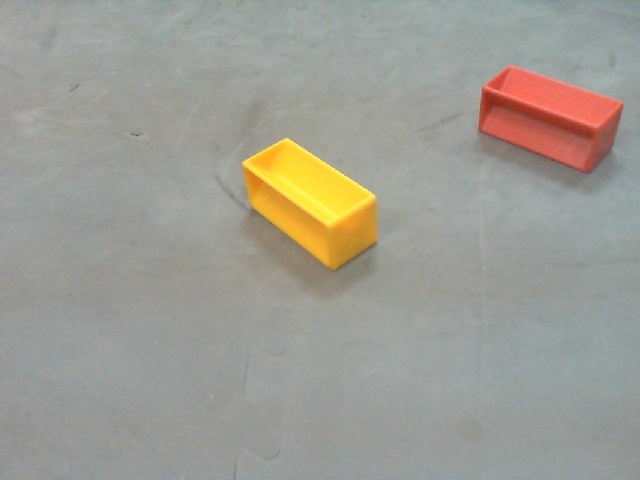RedSample: (478, 62, 625, 176)
YellowSample: (242, 135, 380, 273)
